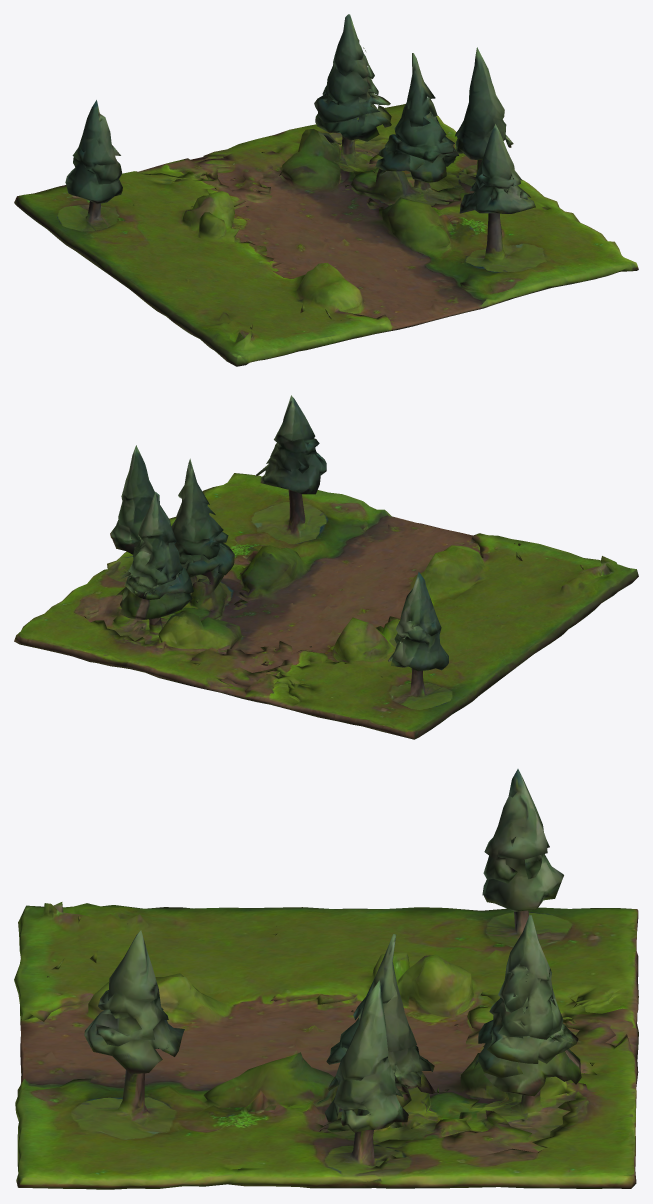
File: Forest002.glb
3 views of the same model, one above another, from view 1: azimuth 30°, elevation 25°; view 2: azimuth 150°, elevation 25°; view 3: azimuth 270°, elevation 25° (orthographic). The views are drawn at different scales.
Visible parts, largest first — view 1: Forest002; view 2: Forest002; view 3: Forest002.
Boxes of the visible parts, box(x1,y1,x2,y2) form: Forest002: box(14, 14, 638, 366); Forest002: box(14, 395, 638, 739); Forest002: box(14, 769, 638, 1189).
Bounding box in the file's own units: 8.28 × 3.17 × 7.93.
Materials: 1 (1 with a texture image).
